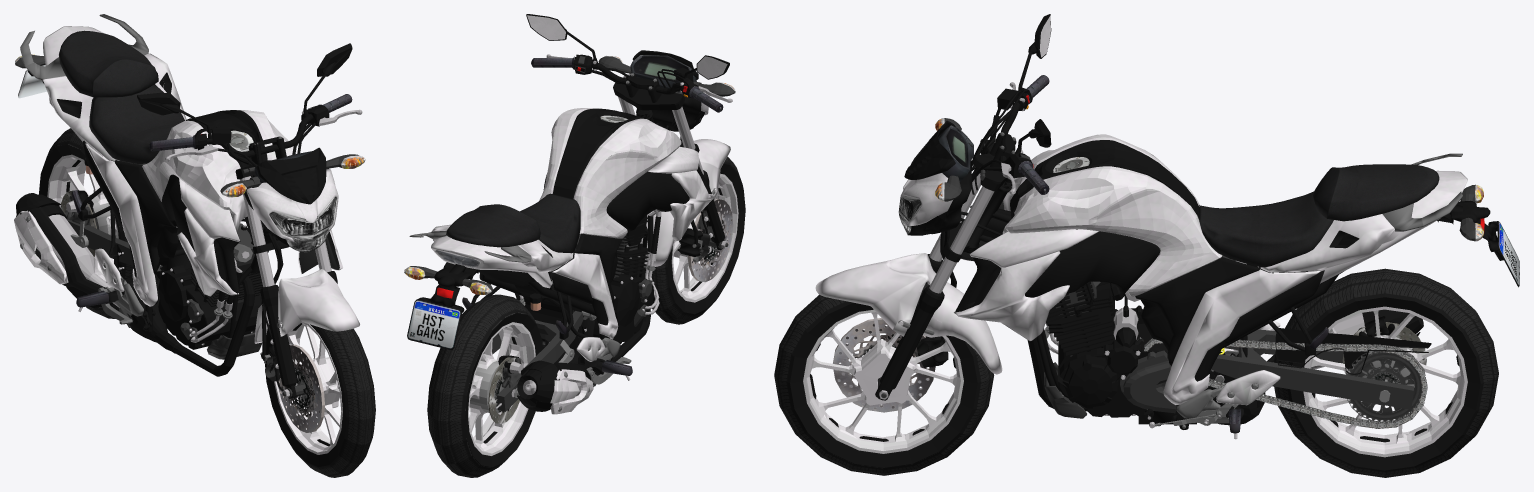
The model's file is Hamaya Gera.fbx.
3 renders of one model, left to right at view 1: azimuth 30°, elevation 25°; view 2: azimuth 150°, elevation 25°; view 3: azimuth 270°, elevation 25°, orthographic. The views are drawn at different scales.
Visible parts, largest first — view 1: BodyMesh, BodyMesh1, HandleMesh, FrontWheelMesh, MudguardMesh, FrontWheelMesh1, DirtGuardMesh, HandleMesh1, RearWheelMesh, SwingArmMesh, RearWheelMesh1, Plate (+2 smaller); view 2: BodyMesh, BodyMesh1, RearWheelMesh, HandleMesh, FrontWheelMesh, RearWheelMesh1, SwingArmMesh, FrontWheelMesh1, Plate, MudguardMesh, DirtGuardMesh, TailSection; view 3: BodyMesh, BodyMesh1, RearWheelMesh, FrontWheelMesh, HandleMesh, SwingArmMesh, FrontWheelMesh1, MudguardMesh, RearWheelMesh1, DirtGuardMesh, HandleMesh1, TailSection.
Part boxes in pixels (<box>): BodyMesh: <box>14,14,340,376</box>; BodyMesh1: <box>43,26,342,306</box>; HandleMesh: <box>137,43,362,286</box>; FrontWheelMesh: <box>265,323,375,477</box>; MudguardMesh: <box>254,269,359,343</box>; FrontWheelMesh1: <box>274,322,342,454</box>; DirtGuardMesh: <box>260,239,337,398</box>; HandleMesh1: <box>246,169,338,242</box>; RearWheelMesh: <box>39,128,155,318</box>; SwingArmMesh: <box>60,190,178,278</box>; RearWheelMesh1: <box>47,154,118,281</box>; Plate: <box>18,65,46,98</box>; BodyMesh: <box>409,108,711,414</box>; BodyMesh1: <box>431,108,714,361</box>; RearWheelMesh: <box>427,294,542,477</box>; HandleMesh: <box>526,14,732,174</box>; FrontWheelMesh: <box>645,156,745,324</box>; RearWheelMesh1: <box>468,322,535,455</box>; SwingArmMesh: <box>483,279,596,424</box>; FrontWheelMesh1: <box>671,173,738,302</box>; Plate: <box>407,299,461,349</box>; MudguardMesh: <box>641,139,730,266</box>; DirtGuardMesh: <box>677,170,728,262</box>; TailSection: <box>417,262,479,312</box>; BodyMesh: <box>954,140,1462,439</box>; BodyMesh1: <box>955,134,1467,405</box>; RearWheelMesh: <box>1273,268,1498,477</box>; FrontWheelMesh: <box>774,283,994,475</box>; HandleMesh: <box>898,14,1051,293</box>; SwingArmMesh: <box>1144,271,1431,428</box>; FrontWheelMesh1: <box>803,309,963,453</box>; MudguardMesh: <box>815,253,1002,374</box>; RearWheelMesh1: <box>1303,306,1467,457</box>; DirtGuardMesh: <box>875,232,956,400</box>; HandleMesh1: <box>900,173,952,225</box>; TailSection: <box>1437,200,1503,260</box>.
Bounding box in the file's own units: 0.82 × 1.29 × 2.16.
